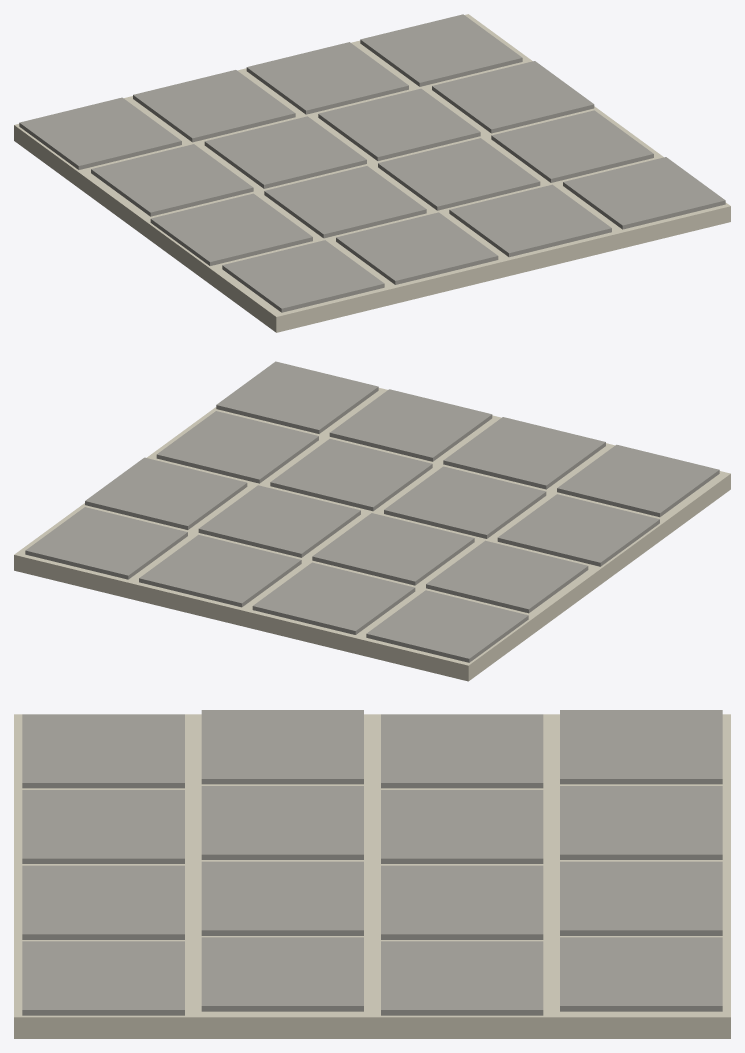
File: flagstone-floor-slab.glb
3 renders of one model, top to bottom at view 1: azimuth 30°, elevation 25°; view 2: azimuth 150°, elevation 25°; view 3: azimuth 270°, elevation 25°, orthographic. The views are drawn at different scales.
Parts seen in each view (by area): view 1: flagstone-floor-slab; view 2: flagstone-floor-slab; view 3: flagstone-floor-slab.
Boxes of the visible parts, x1=… form: flagstone-floor-slab: x1=14, y1=14, x2=730, y2=332; flagstone-floor-slab: x1=14, y1=361, x2=730, y2=681; flagstone-floor-slab: x1=14, y1=710, x2=730, y2=1038.
Size of the model in its own units: 3 by 0.1256 by 3.
